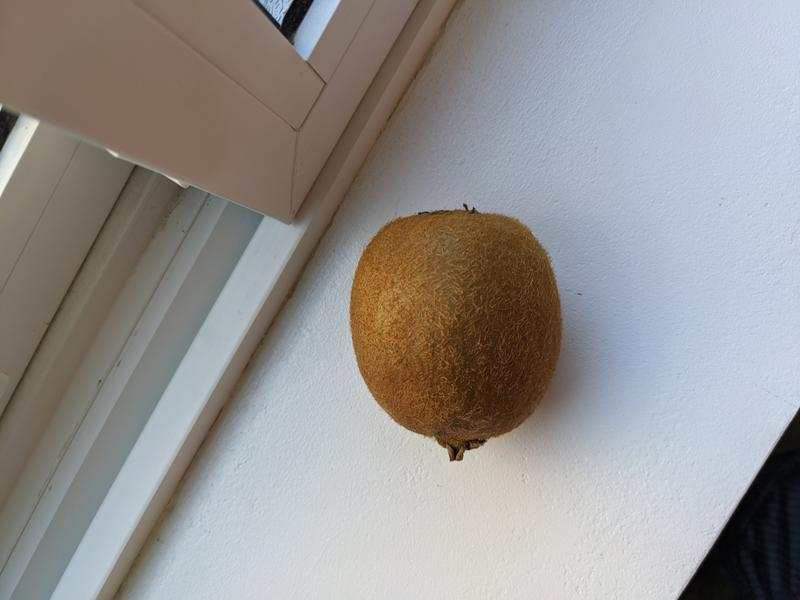kiwi: (349, 210, 563, 462)
